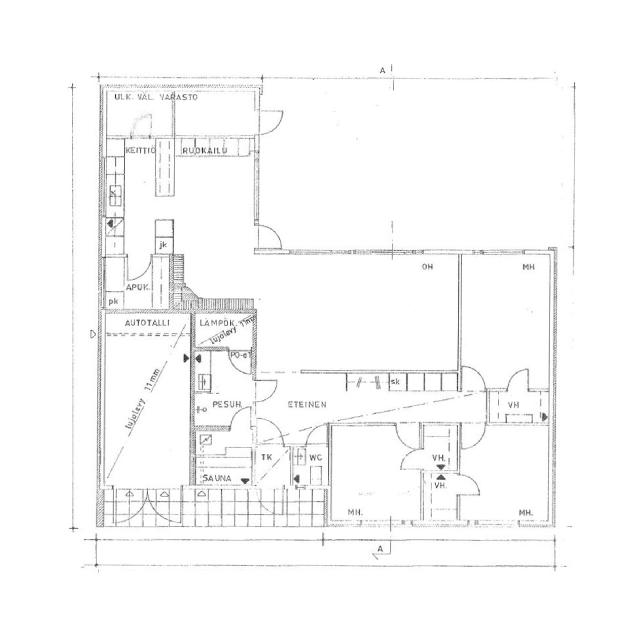door: (253, 221, 287, 253), (459, 362, 489, 395), (253, 416, 286, 446), (394, 420, 424, 452), (123, 252, 154, 282), (459, 419, 487, 452), (256, 107, 286, 136), (504, 365, 532, 394), (226, 348, 255, 376), (456, 471, 483, 499), (252, 378, 280, 404), (398, 446, 425, 472), (227, 405, 253, 431), (304, 422, 329, 448), (129, 113, 153, 140)
window: (248, 151, 266, 222)
zone: (253, 251, 457, 376), (174, 137, 257, 306), (458, 249, 552, 390), (458, 421, 552, 528), (327, 424, 424, 527), (104, 140, 171, 252), (191, 349, 254, 429), (100, 257, 179, 312), (174, 91, 258, 138), (192, 429, 253, 490), (486, 389, 552, 427), (191, 312, 255, 351), (253, 444, 293, 493), (422, 423, 460, 472), (290, 444, 330, 489), (424, 468, 458, 515), (227, 348, 255, 376)
